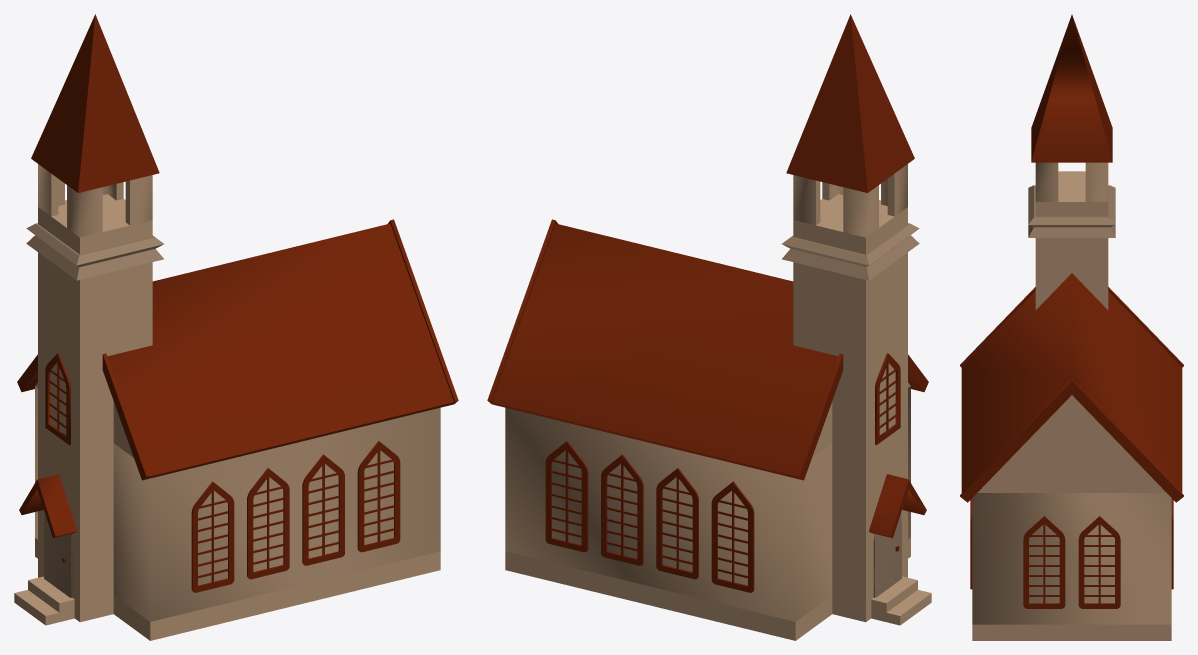
Rendered from Churches.glb.
3 renders of one model, left to right at view 1: azimuth 30°, elevation 25°; view 2: azimuth 150°, elevation 25°; view 3: azimuth 270°, elevation 25°, orthographic. The views are drawn at different scales.
Parts seen in each view (by area): view 1: Root; view 2: Root; view 3: Root.
Boxes of the visible parts, <box> form: Root: <box>14,14,458,640</box>; Root: <box>487,14,931,640</box>; Root: <box>960,14,1183,640</box>.
Bounding box in the file's own units: 10.03 × 15.38 × 6.17.
